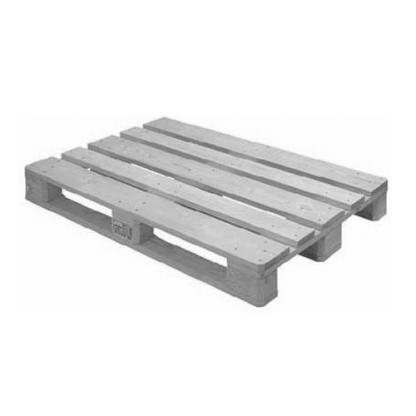BoxFace: (23, 115, 393, 313)
